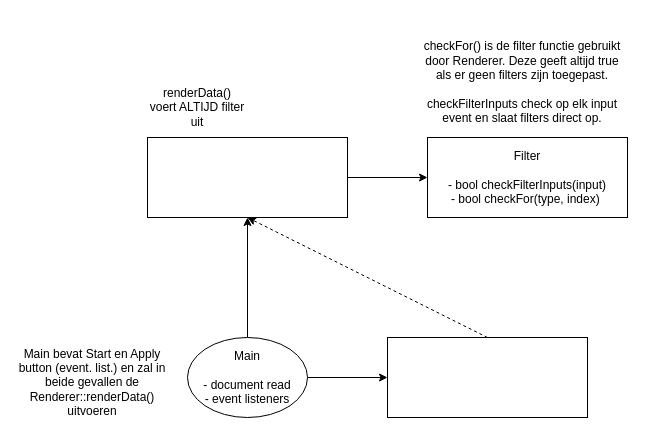
Image size: 645x444. Some labels were removed from this diagram. Here are the shapes that lost their labels. From the top down, the centre of each, then its label:
At pixel 247 177: "Renderer - void renderData(void) - bool scrollTo(request)".
At pixel 487 377: "Searcher - bool checkInput(input) - (priv) void search(void)".
